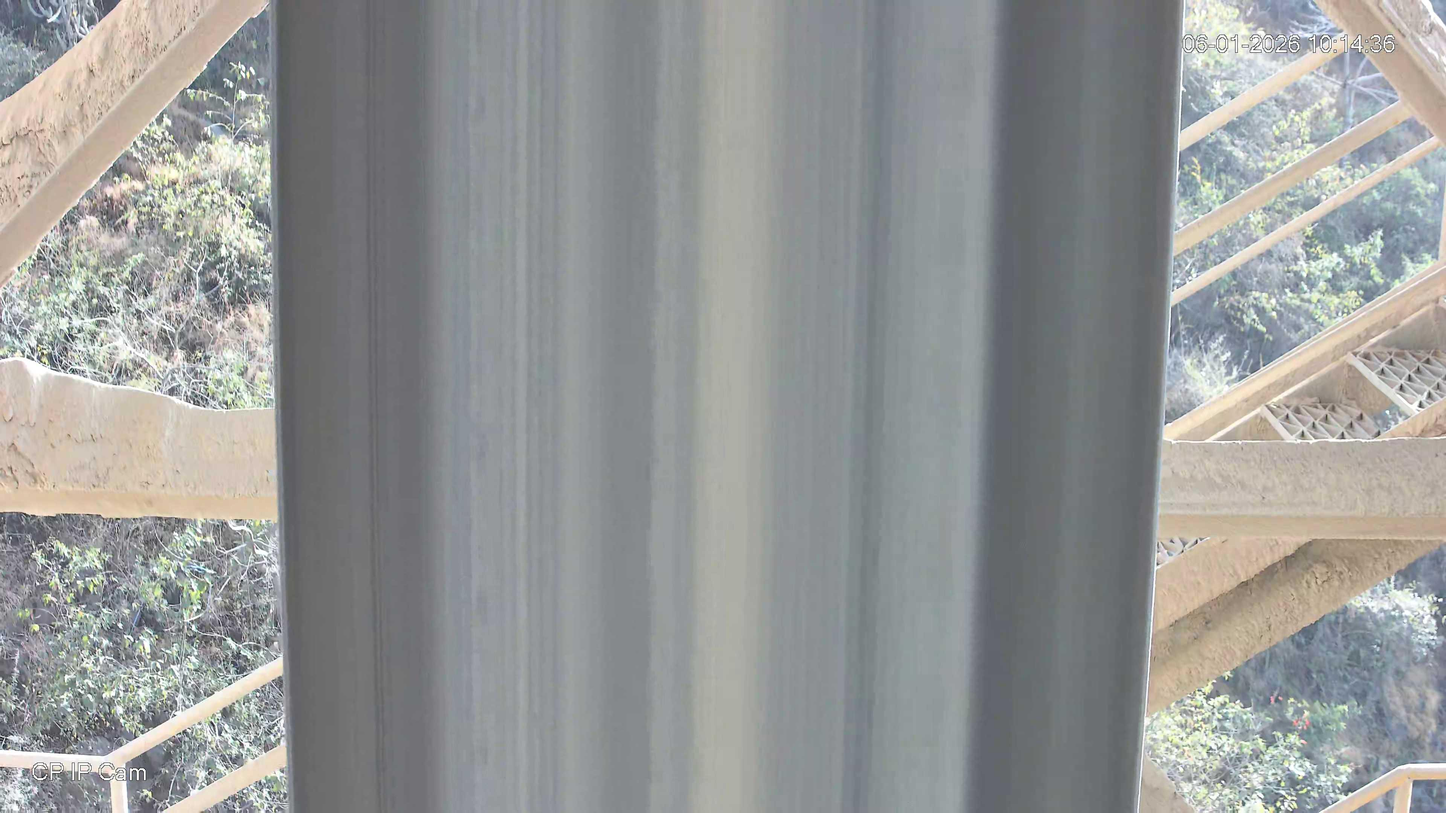belt_roi: (271, 0, 1187, 813)
